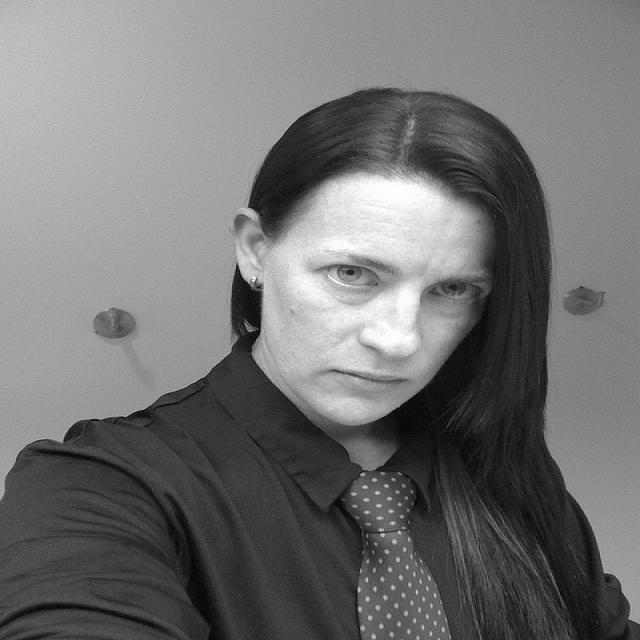monkey: (4, 78, 640, 628)
